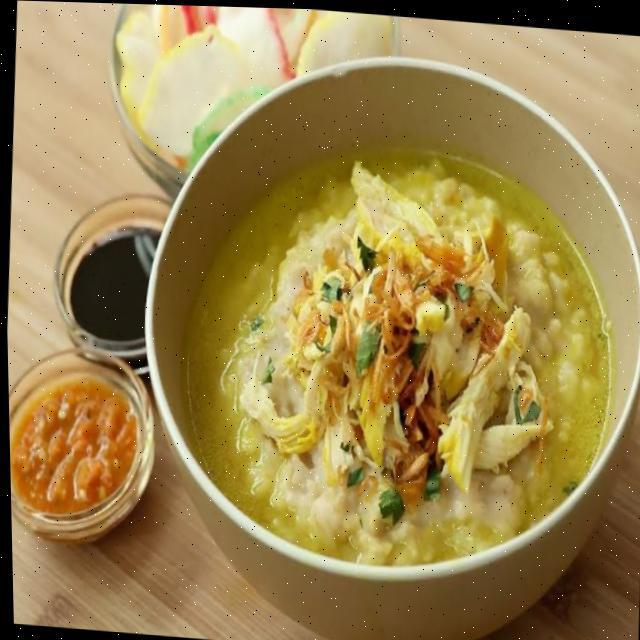bubur ayam: (167, 123, 623, 592)
mangkuk: (121, 34, 640, 640), (98, 3, 408, 218), (7, 339, 162, 551), (45, 185, 175, 369)
sambal: (8, 370, 138, 522)
